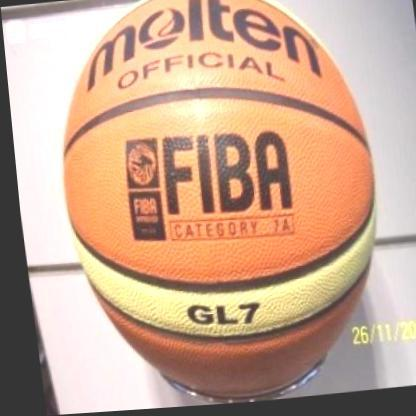basketball: (38, 0, 399, 414)
